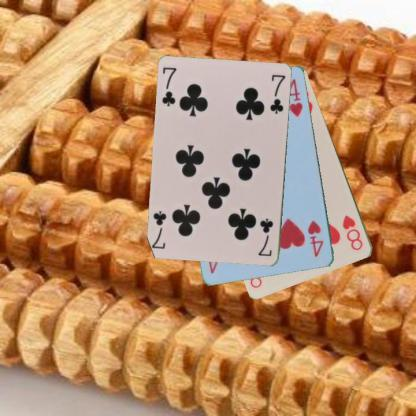4h: (305, 218, 325, 259)
7c: (160, 65, 179, 108), (256, 216, 274, 258)
8h: (340, 213, 364, 252)
